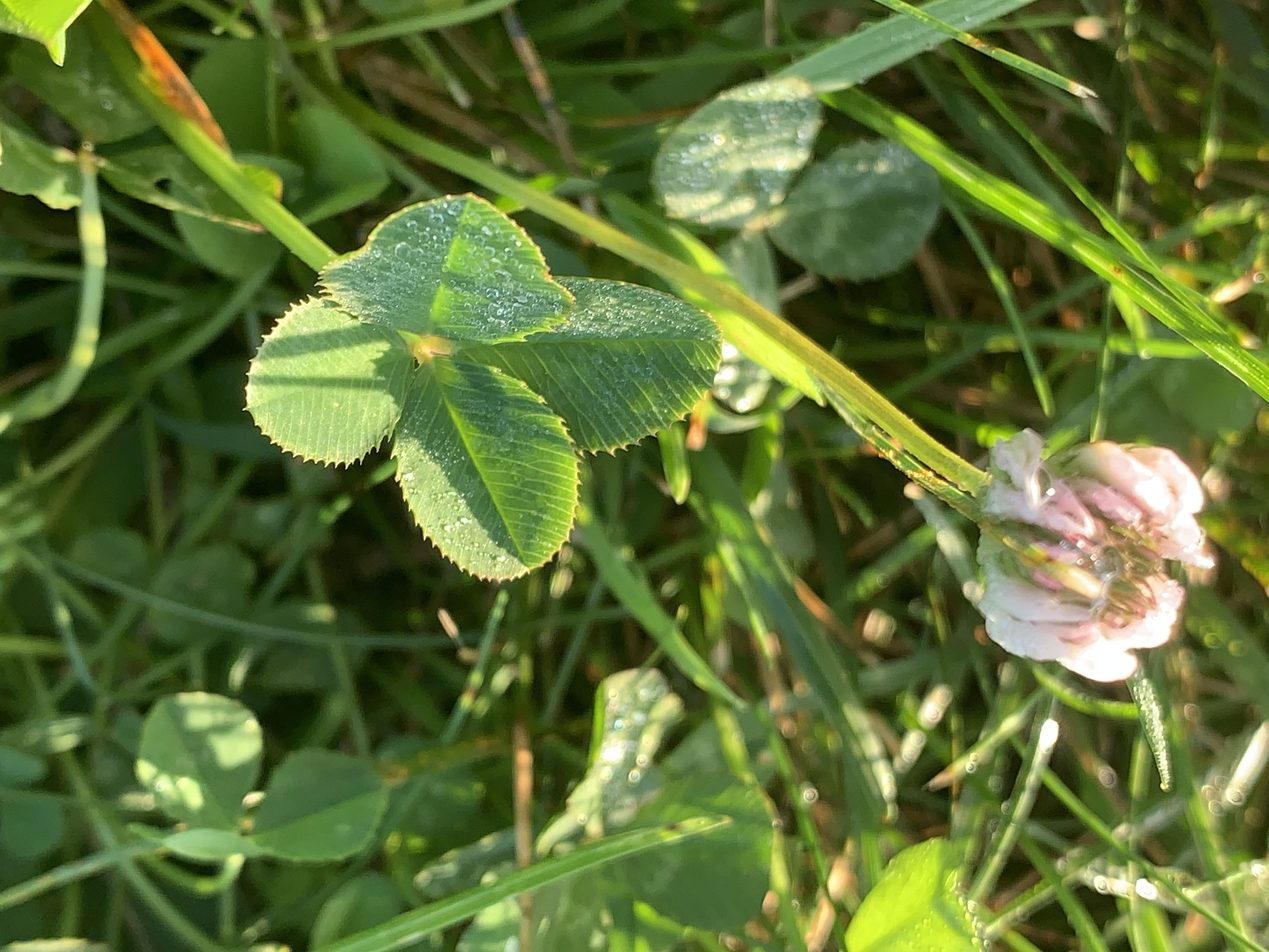4-Leaf-Clovers: (500, 179, 1008, 537)
